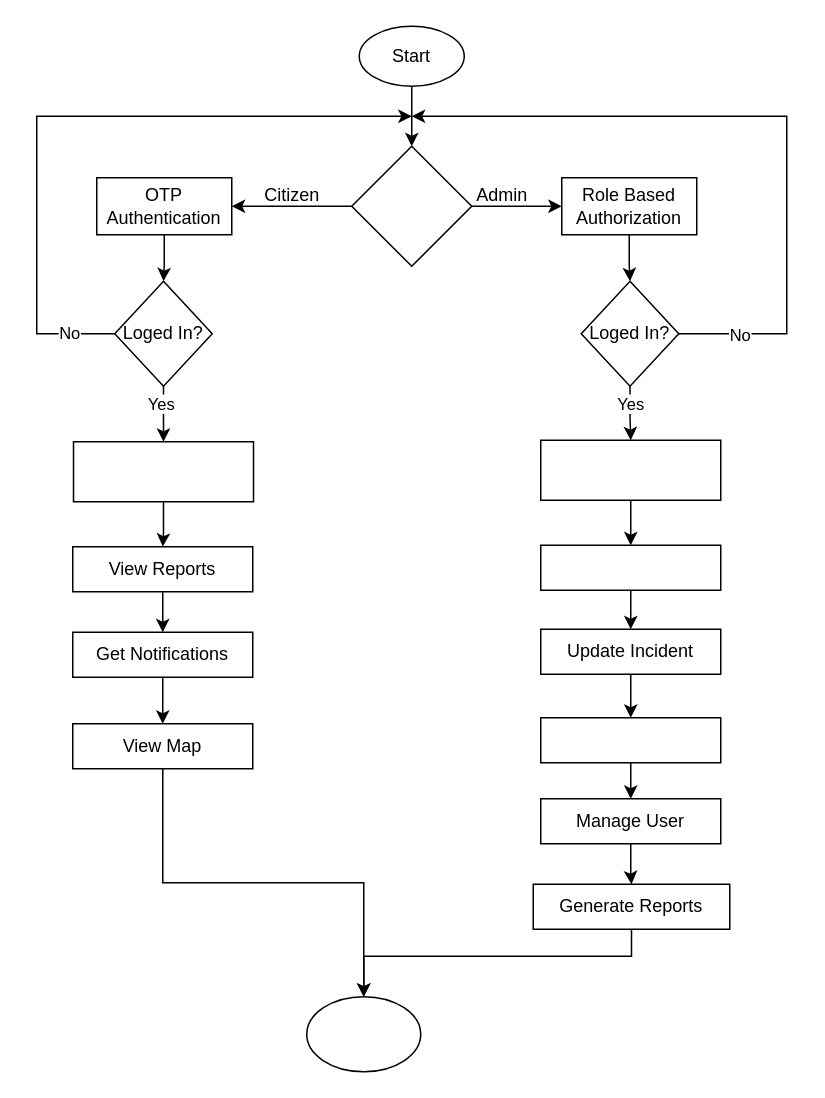
Some shapes in this 825 by 1098 pixel diagram are drawn without their labels. The shapes that lost their labels are listed below. From the top down, each one's centre as x and y in pixels, then its label:
the point at 411,205: Log In
the point at 163,471: Submit Incidents
the point at 630,469: Verify and View Reports
the point at 630,567: Filter Reports
the point at 630,739: Send Alerts
the point at 363,1033: End
